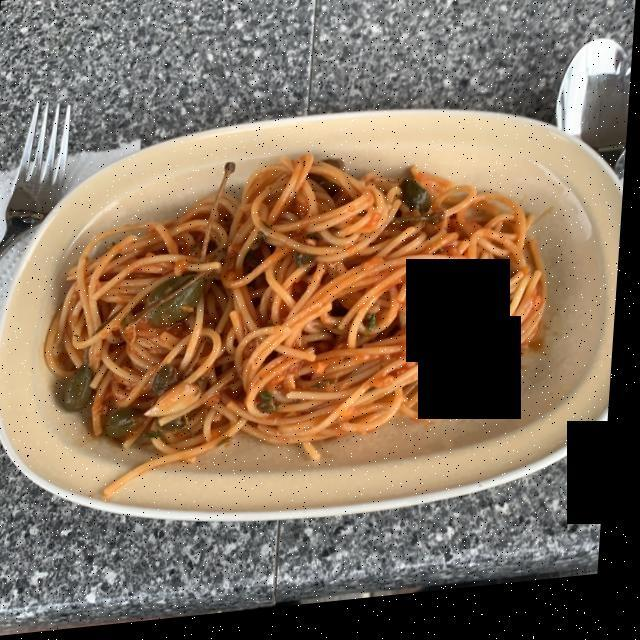green-olives: (412, 358, 516, 425)
pasta: (55, 171, 550, 464)
